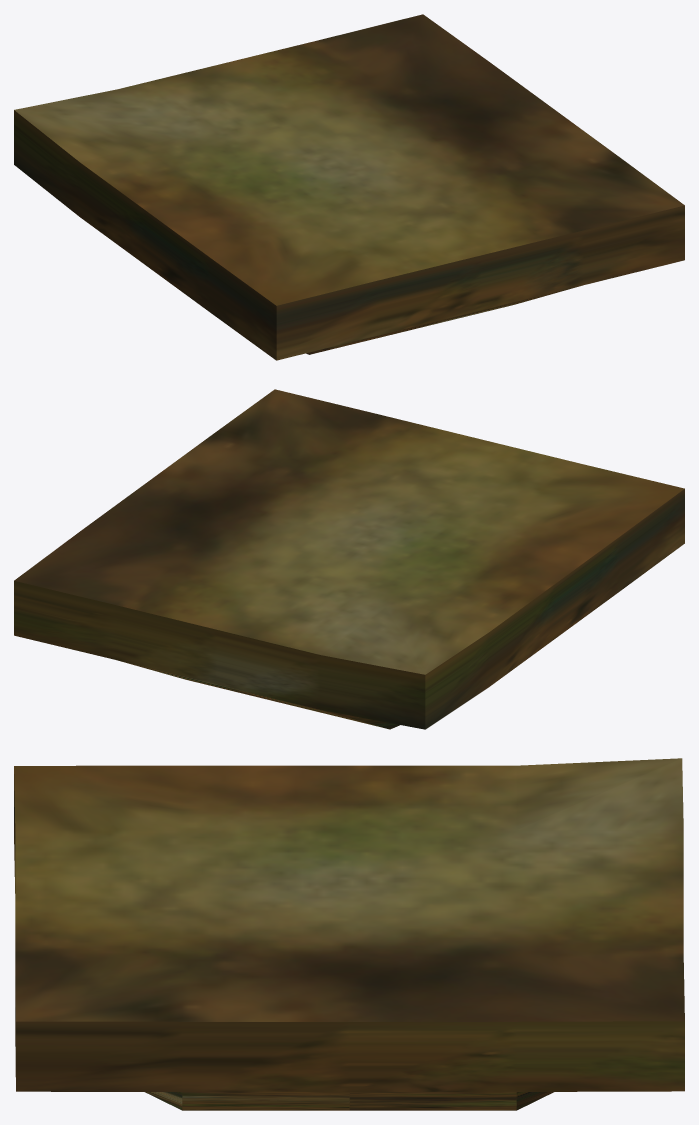
The model's file is flyblock.obj.
The picture shows the model from 3 angles, top to bottom: view 1: azimuth 30°, elevation 25°; view 2: azimuth 150°, elevation 25°; view 3: azimuth 270°, elevation 25°; orthographic projection. The views are drawn at different scales.
Visible parts, largest first — view 1: Cube; view 2: Cube; view 3: Cube.
Boxes of the visible parts, box(x1,y1,x2,y2) form: Cube: box(14, 14, 684, 360); Cube: box(14, 389, 684, 729); Cube: box(14, 758, 684, 1110).
Bounding box in the file's own units: 15.69 × 5.74 × 17.32.
Materials: 1 (1 with a texture image).
